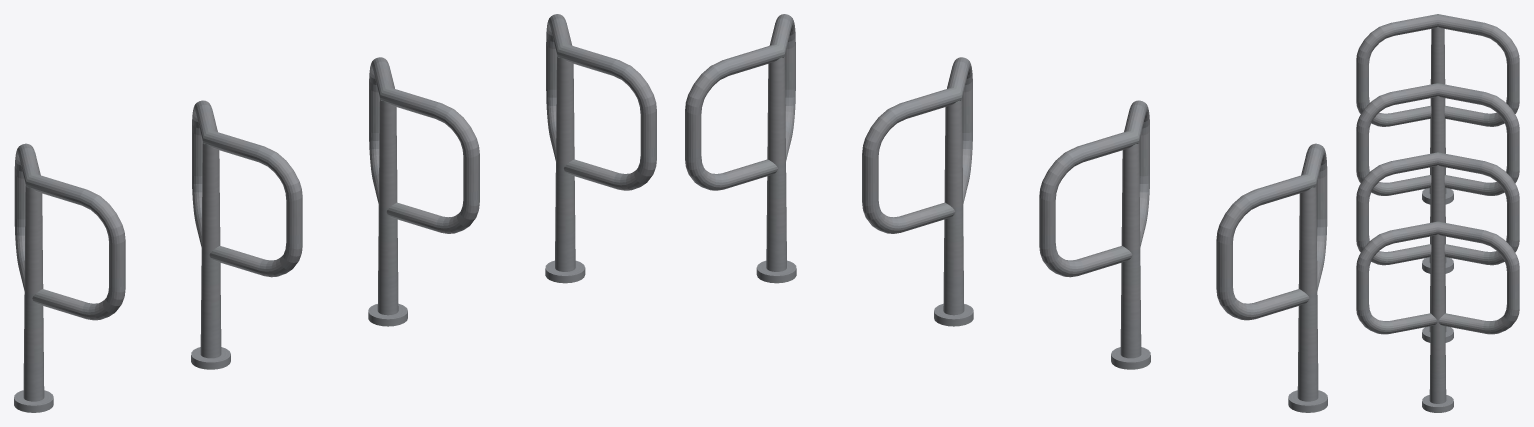
File: bike_rack.glb
The picture shows the model from 3 angles, left to right: view 1: azimuth 30°, elevation 25°; view 2: azimuth 150°, elevation 25°; view 3: azimuth 270°, elevation 25°; orthographic projection. The views are drawn at different scales.
Visible parts, largest first — view 1: hoop; view 2: hoop; view 3: hoop.
Part boxes in pixels (box(x1,y1,x2,y2)): hoop: box(14, 14, 656, 412); hoop: box(685, 14, 1327, 412); hoop: box(1356, 14, 1519, 412).
Size of the model in its own units: 2.67 by 0.9932 by 0.8.
1 material, 1 textured.
